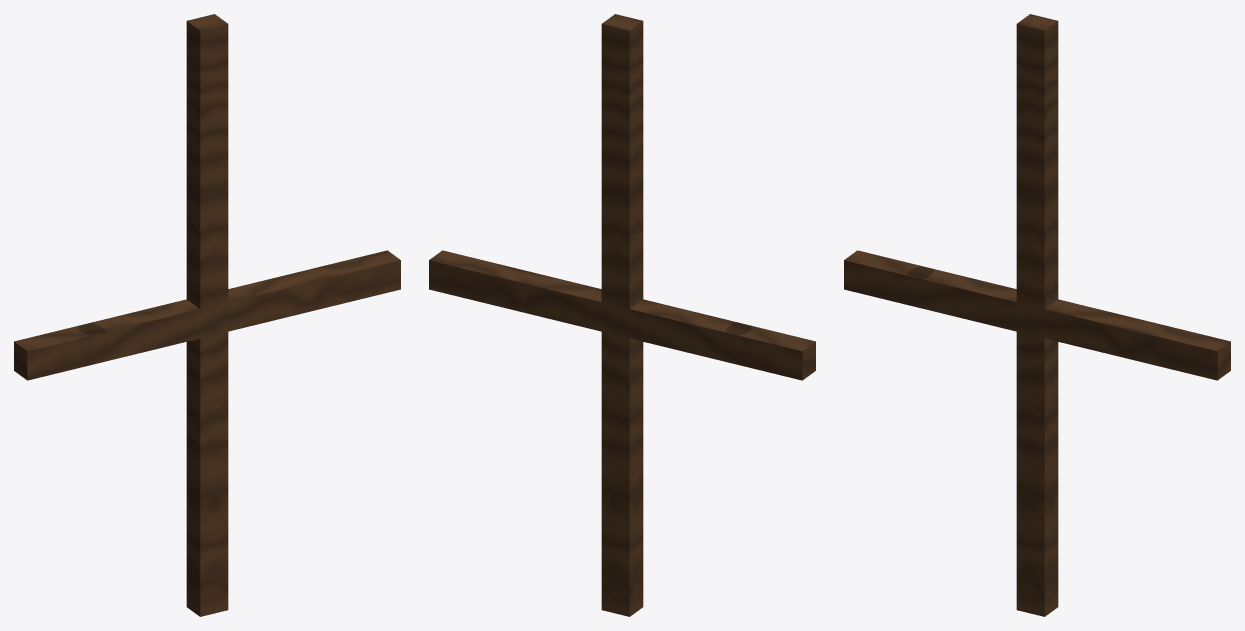
The model's file is window_mullion_cross.glb.
The picture shows the model from 3 angles, left to right: view 1: azimuth 30°, elevation 25°; view 2: azimuth 150°, elevation 25°; view 3: azimuth 330°, elevation 25°; orthographic projection.
Parts seen in each view (by area): view 1: window_mullion_cross; view 2: window_mullion_cross; view 3: window_mullion_cross.
Boxes of the visible parts, left/top/right/bottom form: window_mullion_cross: left=14, top=14, right=400, bottom=616; window_mullion_cross: left=429, top=14, right=815, bottom=616; window_mullion_cross: left=844, top=14, right=1230, bottom=616.
Size of the model in its own units: 0.8 by 1.2 by 0.05.
1 material, 1 textured.
